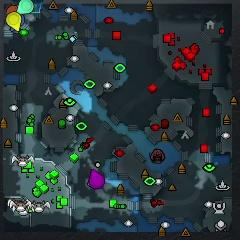p1: (10, 14, 25, 32)
p2: (17, 0, 35, 15)
p3: (88, 169, 104, 189)
p4: (7, 12, 22, 32)
p5: (7, 5, 19, 13)
